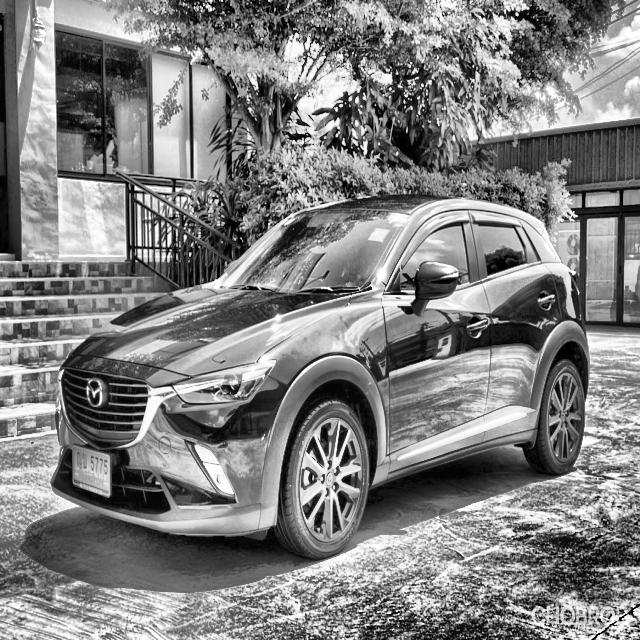license-plate: (71, 440, 113, 497)
